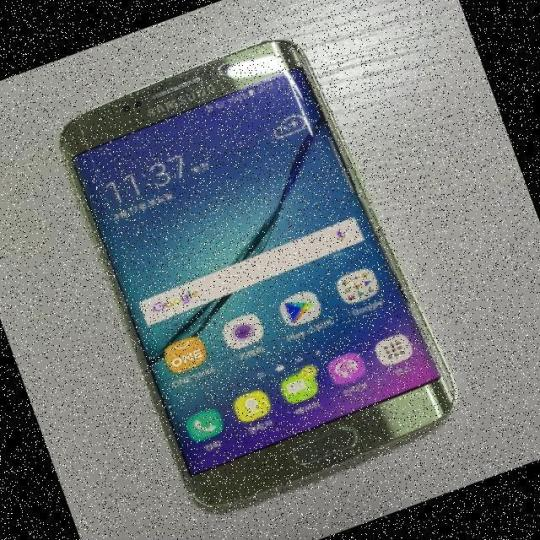phone: (49, 35, 462, 517)
